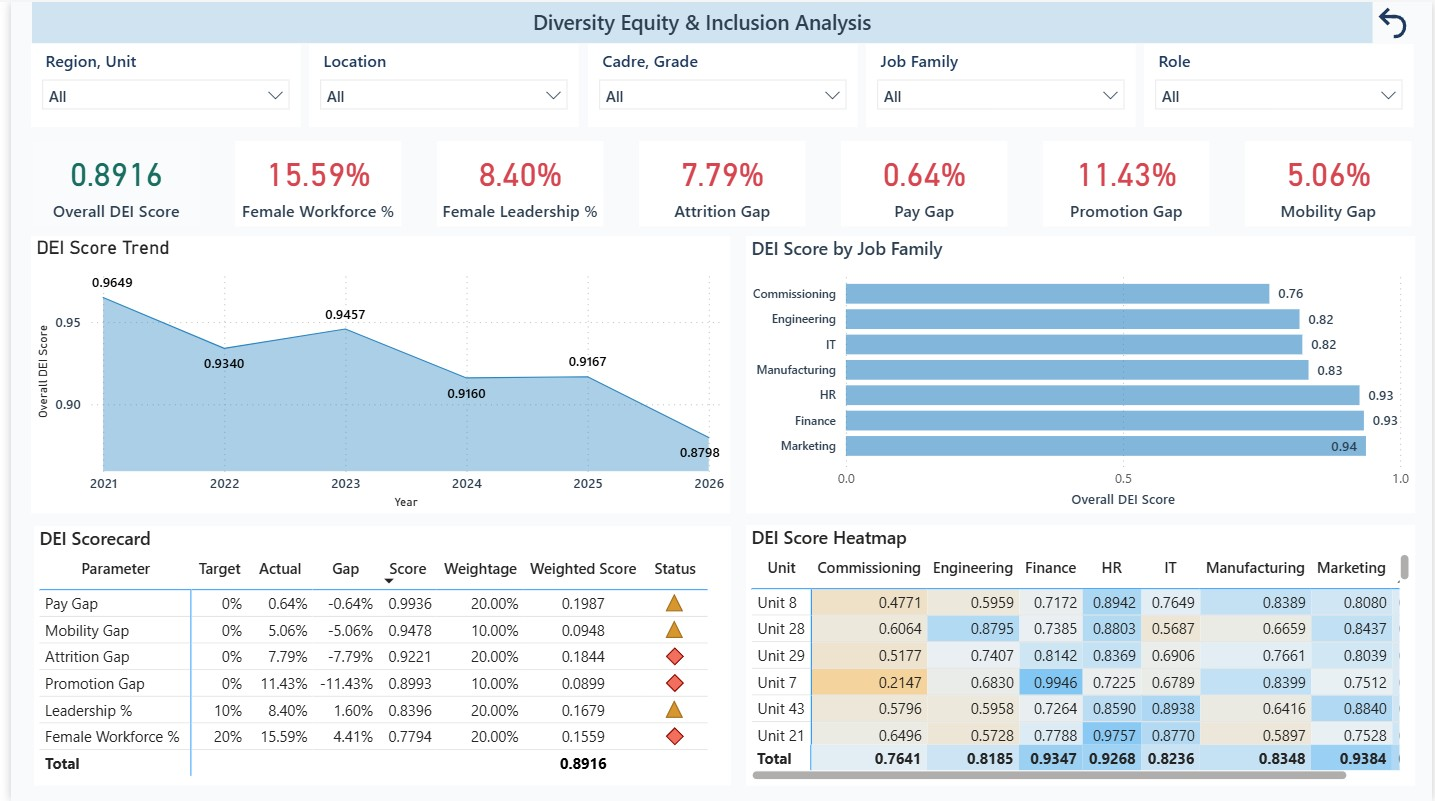

The page's visual inventory and layout, read from the dashboard file:
{"tool":"powerbi","page":{"name":"DEI Analysis","canvas":[1280,720],"ordinal":0},"visuals":[{"type":"textbox","box":[18.7,0,1207.6,37.5],"z":0},{"type":"slicer","fields":{"Values":["DIM_Unit_Master.Region","DIM_Unit_Master.Unit"]},"box":[18.2,37.6,243,75.1],"z":0,"group":"g1"},{"type":"slicer","fields":{"Values":["DIM_Location_Master.Location"]},"box":[269,37.6,243,75.1],"z":1000,"group":"g1"},{"type":"card","fields":{"Values":["DEI Scoresheet.DEI Score"]},"box":[20.2,124.8,150,76.9],"z":1000},{"type":"group","id":"g1","title":"Group 1","box":[18.2,37.6,1244.6,75.1],"z":2000},{"type":"slicer","fields":{"Values":["DIM_Grade_Master.Cadre","DIM_Grade_Master.Grade"]},"box":[519.8,37.6,243,75.1],"z":2000,"group":"g1"},{"type":"actionButton","box":[1226.3,0,37.5,37.5],"z":3000},{"type":"slicer","fields":{"Values":["DIM_Job_Master.Job Family"]},"box":[770.6,37.6,243,75.1],"z":3000,"group":"g1"},{"type":"slicer","fields":{"Values":["DIM_Role_Master.Role"]},"box":[1021.4,37.6,243,75.1],"z":4000,"group":"g1"},{"type":"card","fields":{"Values":["PR_DIV_FACT_EMPLOYEE_MASTER.Female Ratio"]},"box":[202.1,124.8,150.1,76.9],"z":4000},{"type":"card","fields":{"Values":["PR_DIV_FACT_EMPLOYEE_MASTER.Female Leader Ratio"]},"box":[384.2,124.8,150.1,76.9],"z":5000},{"type":"card","fields":{"Values":["DIM_DATE_TABLE.Attrition Gender Gap"]},"box":[566.2,124.8,150.1,76.9],"z":6000},{"type":"card","fields":{"Values":["PR_DIV_FACT_EMPLOYEE_MASTER.Pay Gap"]},"box":[748.2,124.8,150.1,76.9],"z":7000},{"type":"card","fields":{"Values":["DIM_DATE_TABLE.Promotion Gap"]},"box":[930.2,124.8,150.1,76.9],"z":8000},{"type":"card","fields":{"Values":["DIM_DATE_TABLE.Mobility Gap"]},"box":[1112.3,124.8,150.1,76.9],"z":9000},{"type":"lineChart","title":"DEI Score Trend","fields":{"Category":["DIM_DATE_TABLE.Date Hierarchy.Year"],"Y":["DEI Scoresheet.DEI Score"]},"box":[18.4,211,629.7,249.9],"z":10000},{"type":"pivotTable","title":"DEI Scorecard","fields":{"Rows":["DEI Scoresheet.Parameter"],"Values":["Min(DEI Scoresheet.Target)","Max(DEI Scoresheet.Actual)","Max(DEI Scoresheet.Gap)","Sum(DEI Scoresheet.Score)","Sum(DEI Scoresheet.Weightage)","Sum(DEI Scoresheet.DEI Score)","Min(DEI Scoresheet.Status)"]},"box":[20.6,472.1,628.1,233.9],"z":11000},{"type":"clusteredBarChart","title":"DEI Score by Job Family","fields":{"Category":["DIM_Job_Master.Job Family"],"Y":["DEI Scoresheet.DEI Score"]},"box":[662.1,210.6,602.8,249.7],"z":12000},{"type":"pivotTable","title":"DEI Score Heatmap","fields":{"Rows":["DIM_Unit_Master.Unit"],"Values":["DEI Scoresheet.DEI Score"],"Columns":["DIM_Job_Master.Job Family"]},"box":[662.1,471.6,602.8,234.6],"z":13000}]}

Visuals, with their boxes in screenshot pixels (x1, y1, x2, y2), scaled from the page's 1280x720 canvas onto the 1435x801 screenshot:
textbox: <bbox>21, 0, 1375, 42</bbox>
slicer - DIM_Unit_Master.Region x DIM_Unit_Master.Unit: <bbox>20, 42, 293, 125</bbox>
slicer - DIM_Location_Master.Location: <bbox>302, 42, 574, 125</bbox>
card - DEI Scoresheet.DEI Score: <bbox>23, 139, 191, 224</bbox>
"Group 1" group: <bbox>20, 42, 1416, 125</bbox>
slicer - DIM_Grade_Master.Cadre x DIM_Grade_Master.Grade: <bbox>583, 42, 855, 125</bbox>
actionButton: <bbox>1375, 0, 1417, 42</bbox>
slicer - DIM_Job_Master.Job Family: <bbox>864, 42, 1136, 125</bbox>
slicer - DIM_Role_Master.Role: <bbox>1145, 42, 1418, 125</bbox>
card - PR_DIV_FACT_EMPLOYEE_MASTER.Female Ratio: <bbox>227, 139, 395, 224</bbox>
card - PR_DIV_FACT_EMPLOYEE_MASTER.Female Leader Ratio: <bbox>431, 139, 599, 224</bbox>
card - DIM_DATE_TABLE.Attrition Gender Gap: <bbox>635, 139, 803, 224</bbox>
card - PR_DIV_FACT_EMPLOYEE_MASTER.Pay Gap: <bbox>839, 139, 1007, 224</bbox>
card - DIM_DATE_TABLE.Promotion Gap: <bbox>1043, 139, 1211, 224</bbox>
card - DIM_DATE_TABLE.Mobility Gap: <bbox>1247, 139, 1415, 224</bbox>
"DEI Score Trend" lineChart: <bbox>21, 235, 727, 513</bbox>
"DEI Scorecard" pivotTable: <bbox>23, 525, 727, 785</bbox>
"DEI Score by Job Family" clusteredBarChart: <bbox>742, 234, 1418, 512</bbox>
"DEI Score Heatmap" pivotTable: <bbox>742, 525, 1418, 786</bbox>
